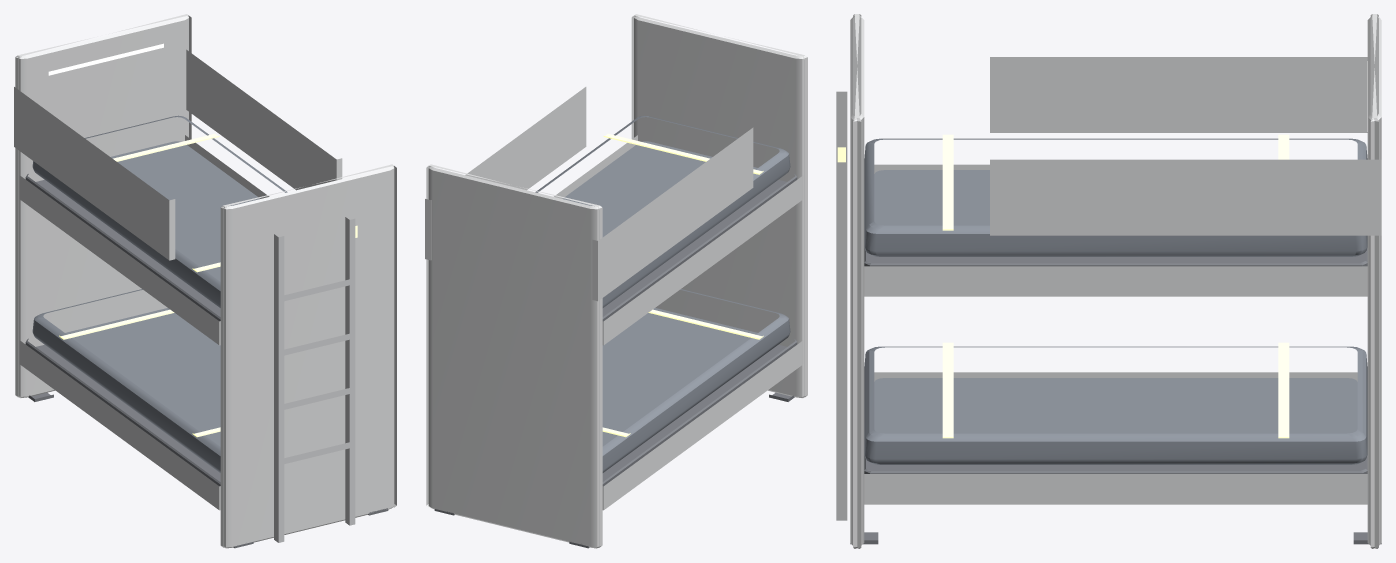
The model's file is iter_01.glb.
3 views of the same model, side by side, from view 1: azimuth 30°, elevation 25°; view 2: azimuth 150°, elevation 25°; view 3: azimuth 270°, elevation 25° (orthographic). The views are drawn at different scales.
Visible parts, largest first — view 1: End_Panels, Guard_Rails, Mattress_Lo, Mattress_Up, Side_Rails, Ladder, Decks, Mattress_Straps, Head_Cutouts_Trim; view 2: End_Panels, Guard_Rails, Mattress_Lo, Side_Rails, Mattress_Up, Decks, Mattress_Straps; view 3: Guard_Rails, Mattress_Lo, Side_Rails, Mattress_Up, End_Panels, Decks, Ladder, Mattress_Straps.
Boxes of the visible parts, x1=… form: End_Panels: x1=15, y1=14, x2=396, y2=548; Guard_Rails: x1=14, y1=49, x2=342, y2=260; Mattress_Lo: x1=32, y1=289, x2=220, y2=472; Mattress_Up: x1=32, y1=115, x2=287, y2=308; Side_Rails: x1=19, y1=135, x2=269, y2=510; Ladder: x1=274, y1=217, x2=355, y2=542; Decks: x1=25, y1=174, x2=220, y2=486; Mattress_Straps: x1=59, y1=133, x2=220, y2=437; Head_Cutouts_Trim: x1=48, y1=43, x2=163, y2=75; End_Panels: x1=426, y1=14, x2=807, y2=548; Guard_Rails: x1=425, y1=87, x2=753, y2=301; Mattress_Lo: x1=602, y1=289, x2=790, y2=472; Side_Rails: x1=554, y1=135, x2=803, y2=510; Mattress_Up: x1=535, y1=115, x2=790, y2=307; Decks: x1=602, y1=174, x2=797, y2=486; Mattress_Straps: x1=602, y1=133, x2=763, y2=437; Guard_Rails: x1=990, y1=57, x2=1381, y2=235; Mattress_Lo: x1=864, y1=346, x2=1367, y2=464; Side_Rails: x1=864, y1=164, x2=1367, y2=504; Mattress_Up: x1=864, y1=138, x2=1367, y2=256; End_Panels: x1=850, y1=14, x2=1381, y2=548; Decks: x1=864, y1=247, x2=1367, y2=473; Ladder: x1=836, y1=91, x2=847, y2=520; Mattress_Straps: x1=942, y1=134, x2=1289, y2=438.
Size of the model in its own units: 0.9 by 1.7 by 1.95.
